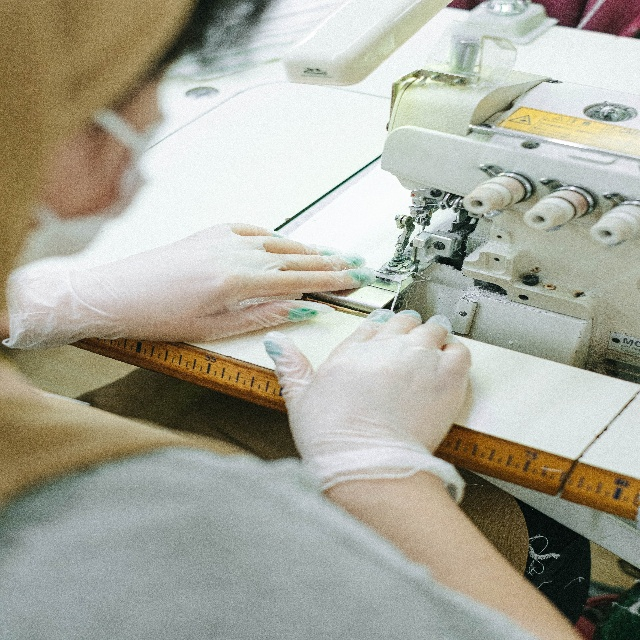Guantes: (52, 220, 380, 346), (261, 308, 476, 496)
